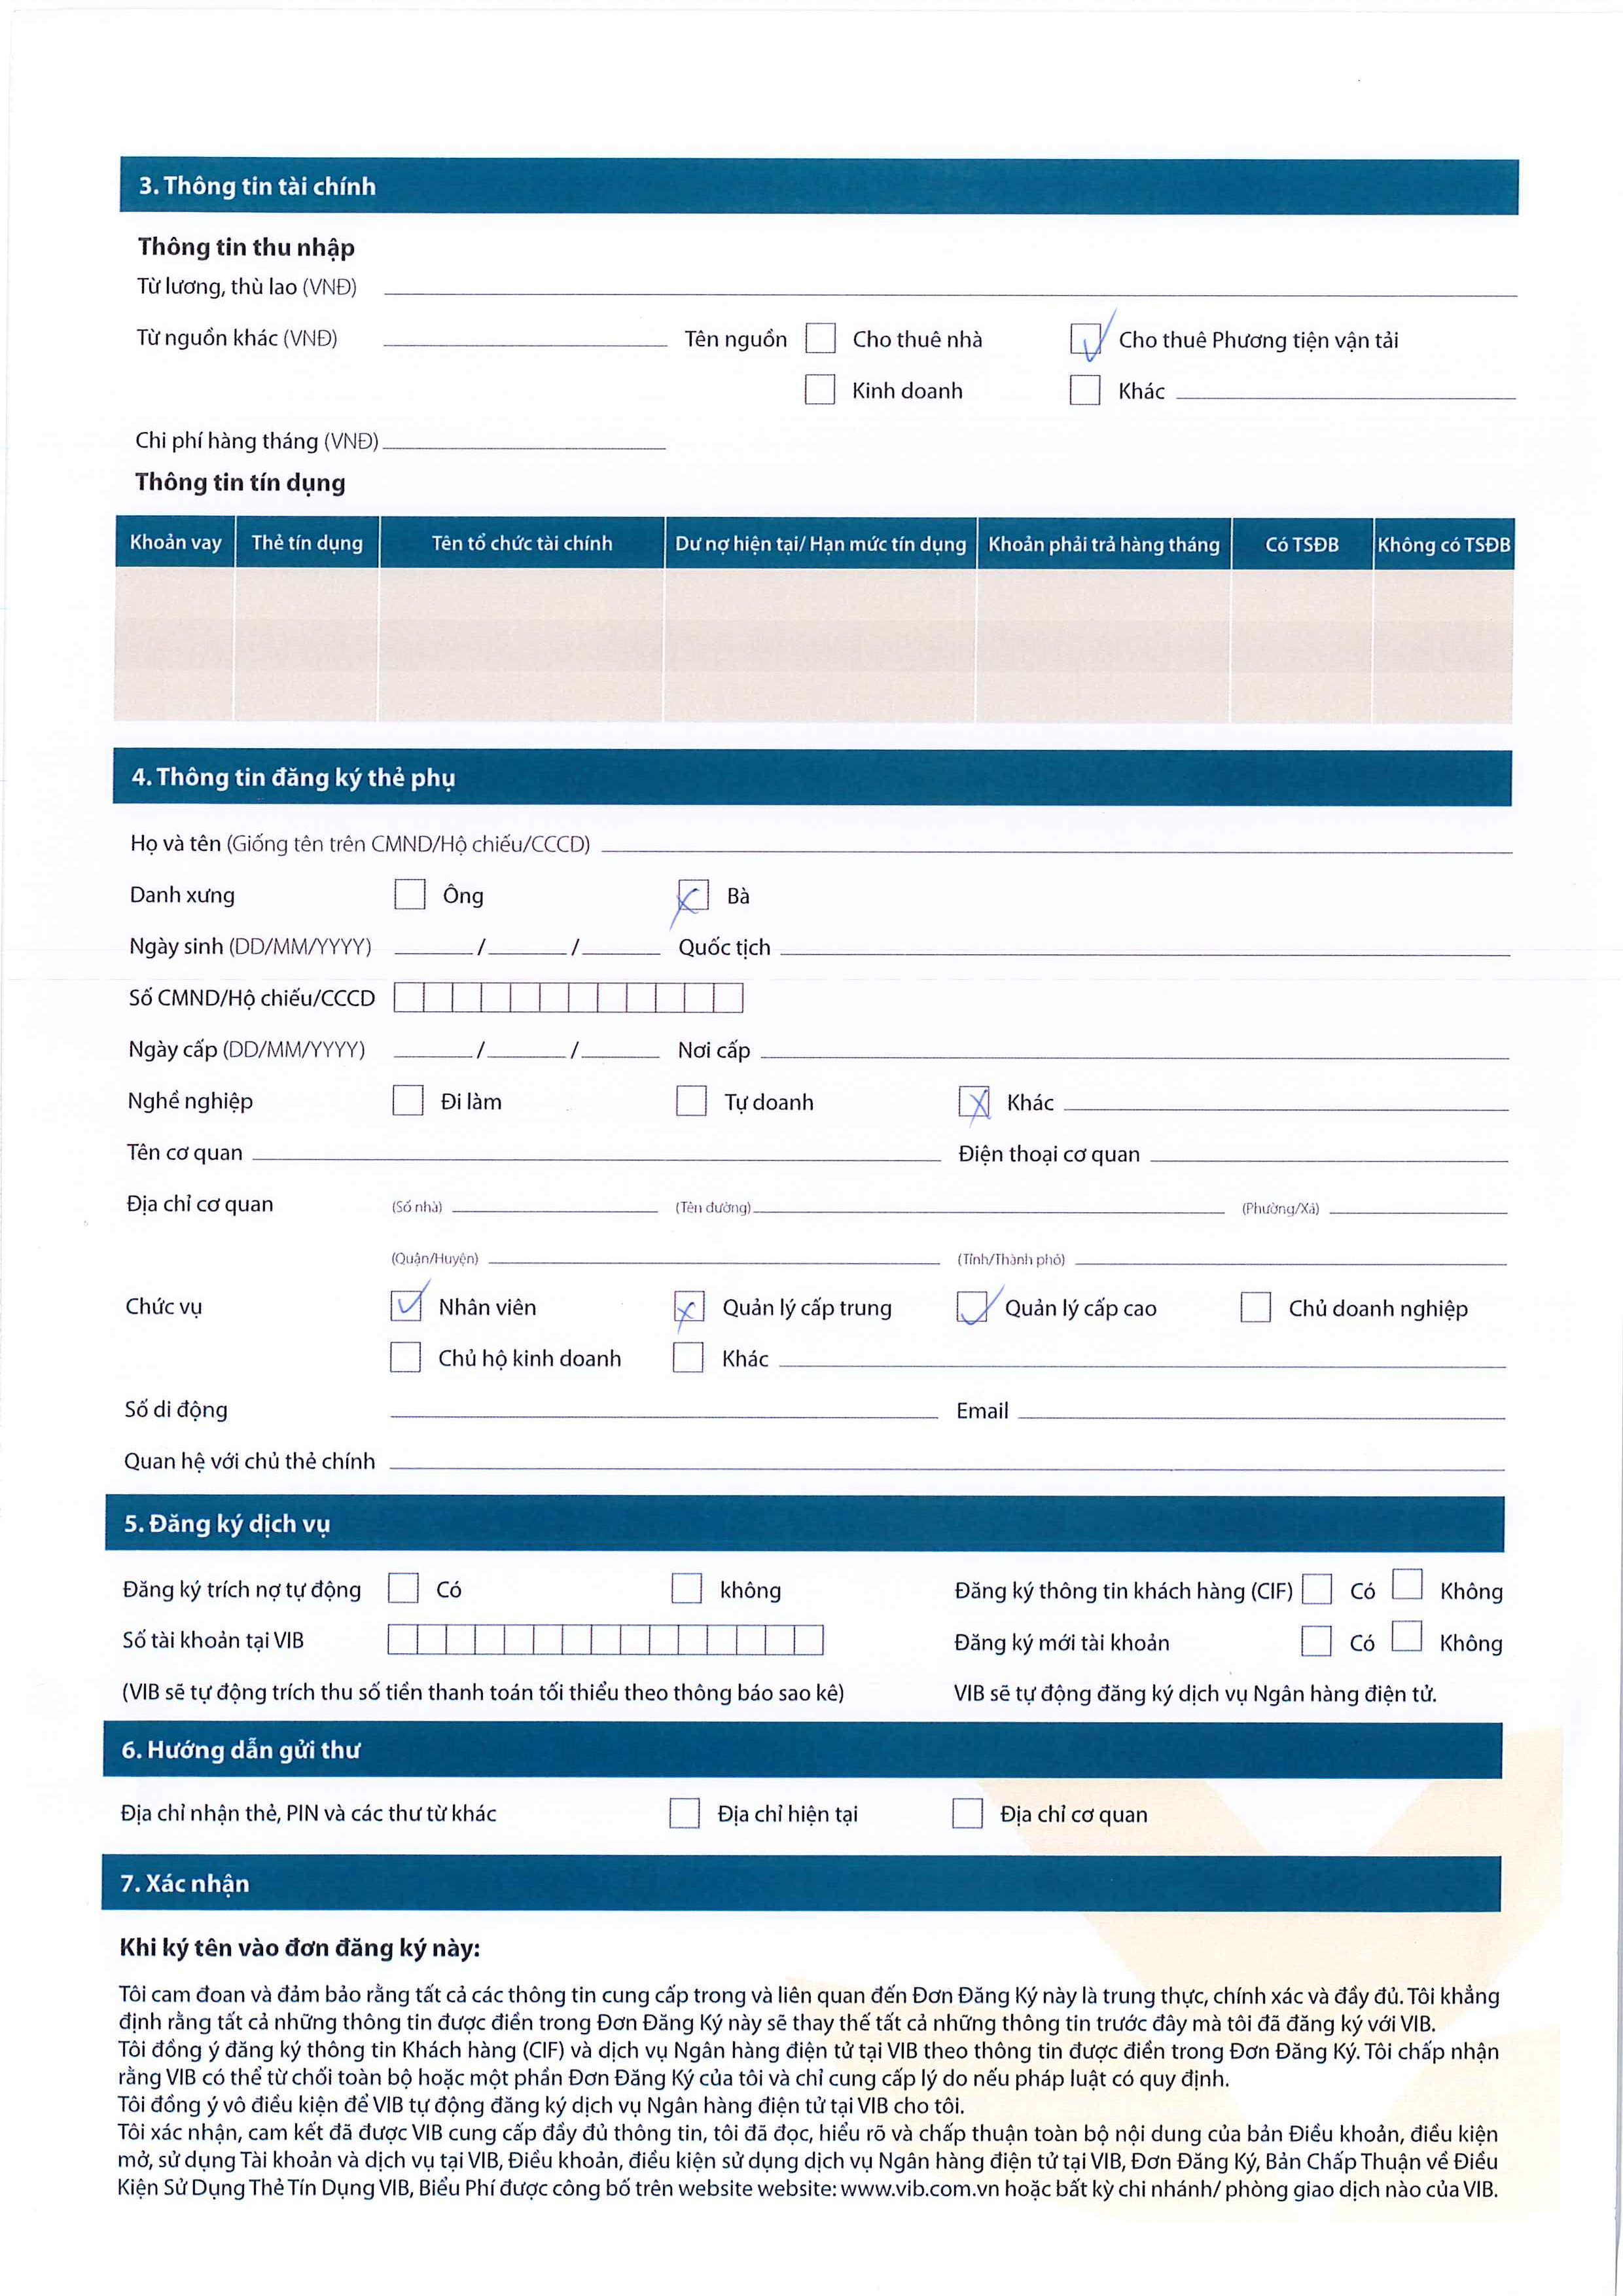box: (385, 1335, 429, 1381), (1388, 1560, 1430, 1606), (799, 367, 843, 409), (950, 1284, 994, 1326), (947, 1792, 989, 1836), (954, 1077, 994, 1123), (383, 1567, 429, 1607), (673, 873, 715, 915), (1386, 1614, 1428, 1657), (385, 1284, 429, 1325), (1237, 1284, 1277, 1328), (1296, 1620, 1337, 1662), (664, 1792, 706, 1832), (799, 318, 843, 357), (1066, 316, 1105, 360), (666, 1288, 711, 1325), (388, 1080, 429, 1121), (1300, 1567, 1340, 1607), (1064, 371, 1105, 409), (390, 875, 429, 915), (671, 1080, 711, 1119), (667, 1569, 708, 1606), (667, 1339, 706, 1375)
